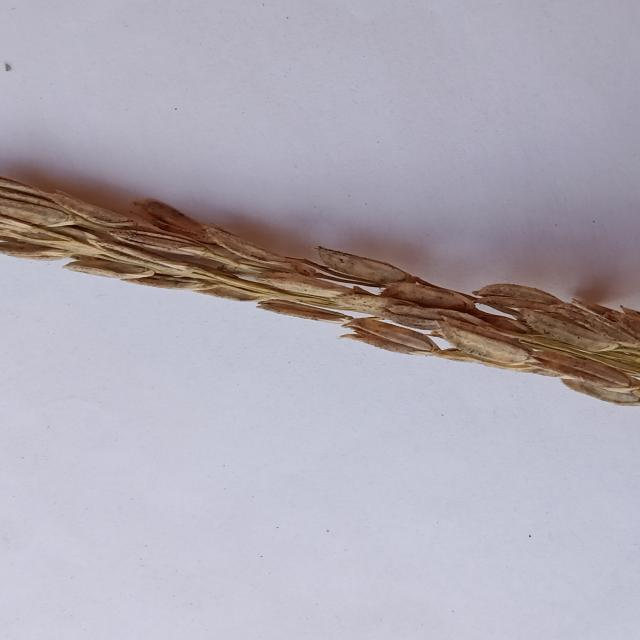Neck_Blast: (0, 181, 637, 400)
